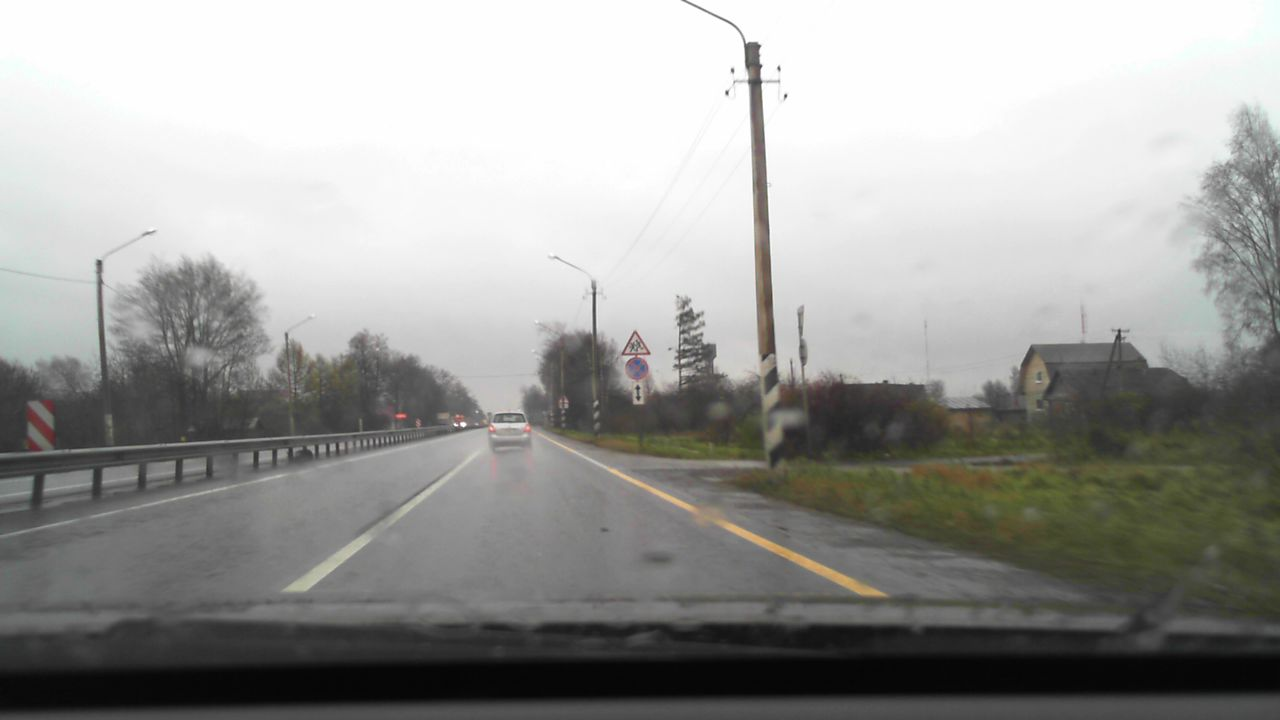No Parking: (624, 357, 648, 379)
